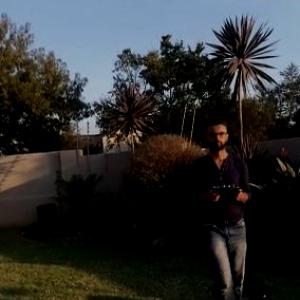follow: (187, 116, 258, 299)
